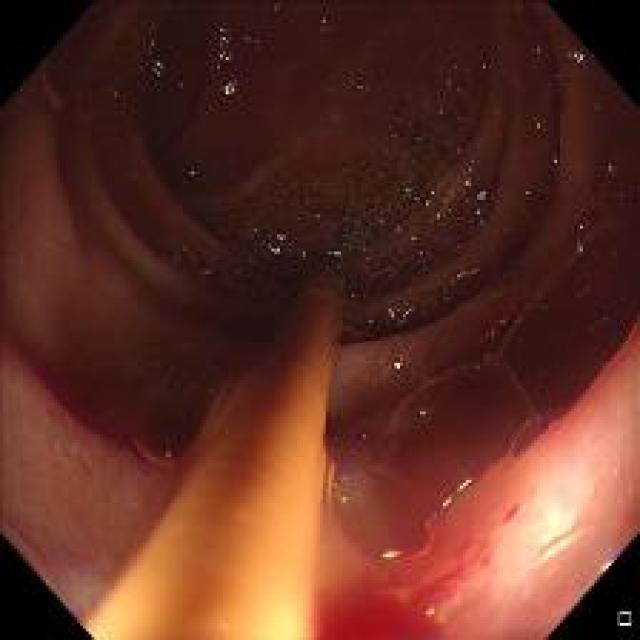bubbles: (489, 195, 631, 415), (366, 364, 544, 469), (324, 455, 465, 566), (281, 164, 424, 246), (342, 220, 482, 302), (388, 76, 476, 176), (121, 379, 204, 474), (462, 195, 496, 224)
color misalignment: (131, 438, 171, 466), (415, 404, 429, 418), (381, 552, 399, 560), (458, 479, 472, 488), (339, 494, 350, 502)
contrast: (6, 22, 631, 459)
instrument: (85, 268, 345, 638)
saturation: (504, 468, 585, 568)
specularity: (245, 215, 291, 264), (176, 159, 210, 195), (190, 255, 221, 289), (568, 214, 589, 264), (145, 42, 171, 79), (378, 301, 411, 328), (591, 305, 619, 336), (214, 72, 241, 102), (349, 75, 374, 106), (314, 71, 336, 100), (218, 22, 234, 61), (325, 242, 348, 269), (454, 476, 475, 490), (565, 48, 585, 61), (438, 495, 454, 509), (381, 549, 401, 560), (392, 356, 402, 371)
